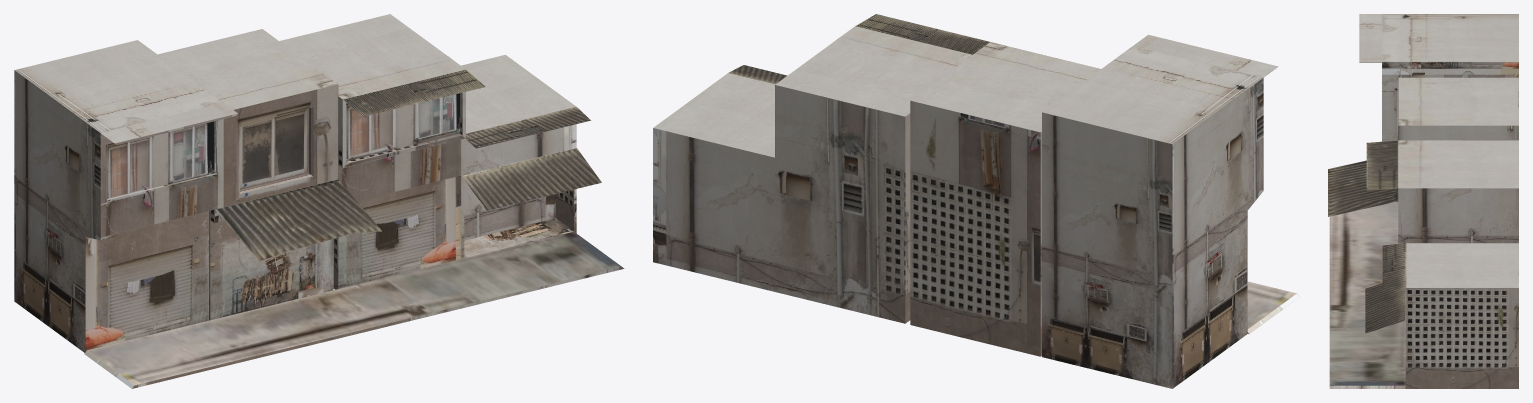
The model's file is building2.fbx.
3 views of the same model, side by side, from view 1: azimuth 30°, elevation 25°; view 2: azimuth 150°, elevation 25°; view 3: azimuth 270°, elevation 25° (orthographic). The views are drawn at different scales.
Parts seen in each view (by area): view 1: Building set 2.001; view 2: Building set 2.001; view 3: Building set 2.001.
Part boxes in pixels (x1,y1,x2,y2): Building set 2.001: [14, 14, 624, 388]; Building set 2.001: [653, 14, 1299, 388]; Building set 2.001: [1328, 14, 1518, 388].
Size of the model in its own units: 149 by 66.75 by 62.72.
Materials: 1 (1 with a texture image).
